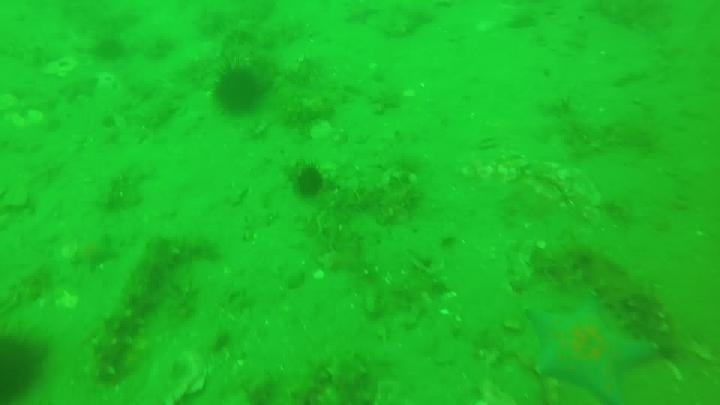echinus: (1, 331, 49, 403), (211, 64, 264, 117), (290, 162, 327, 201), (92, 35, 127, 63)
holothurian: (86, 235, 184, 384), (544, 239, 672, 349), (291, 347, 329, 405), (328, 352, 370, 403)
scallop: (138, 349, 211, 405), (41, 55, 80, 80)
starfish: (524, 296, 656, 404), (69, 232, 120, 274), (57, 72, 101, 105)
